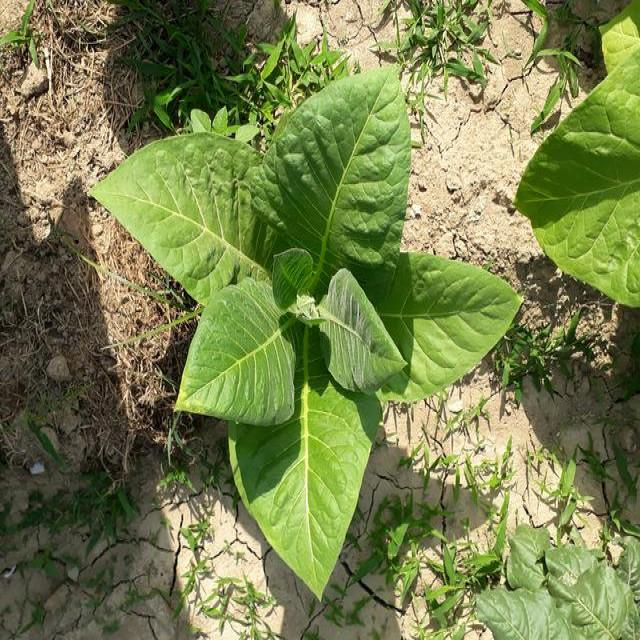crop: (106, 69, 512, 569), (526, 85, 640, 322)
